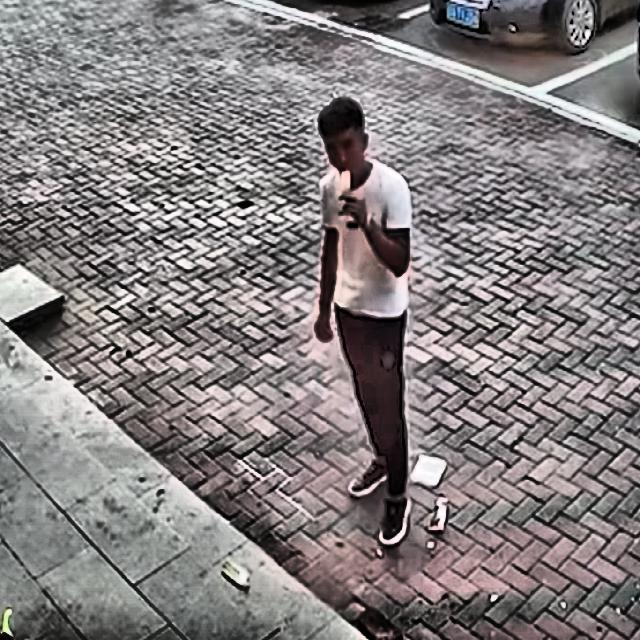Human: (296, 105, 444, 562)
